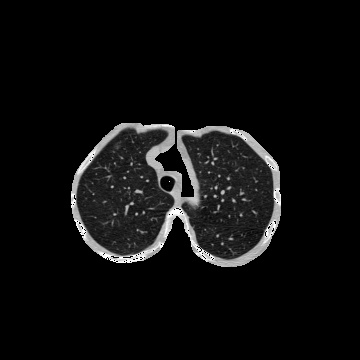PN: (114, 142, 120, 148)
